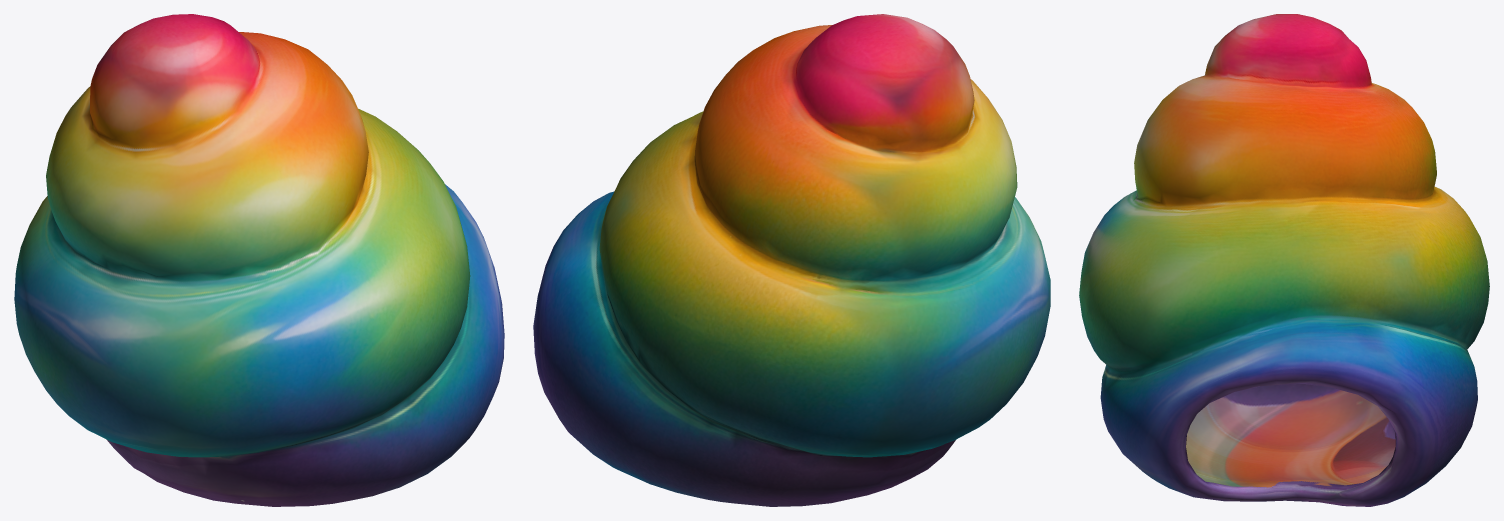
The model's file is crab_rainbowshell.glb.
3 renders of one model, left to right at view 1: azimuth 30°, elevation 25°; view 2: azimuth 150°, elevation 25°; view 3: azimuth 270°, elevation 25°, orthographic. The views are drawn at different scales.
Parts seen in each view (by area): view 1: texture_mapping; view 2: texture_mapping; view 3: texture_mapping.
Boxes of the visible parts, <box> form: texture_mapping: <box>14,14,504,506</box>; texture_mapping: <box>533,14,1050,506</box>; texture_mapping: <box>1079,14,1489,506</box>.
Bounding box in the file's own units: 0.9592 × 1 × 0.906.
1 material, 1 textured.
